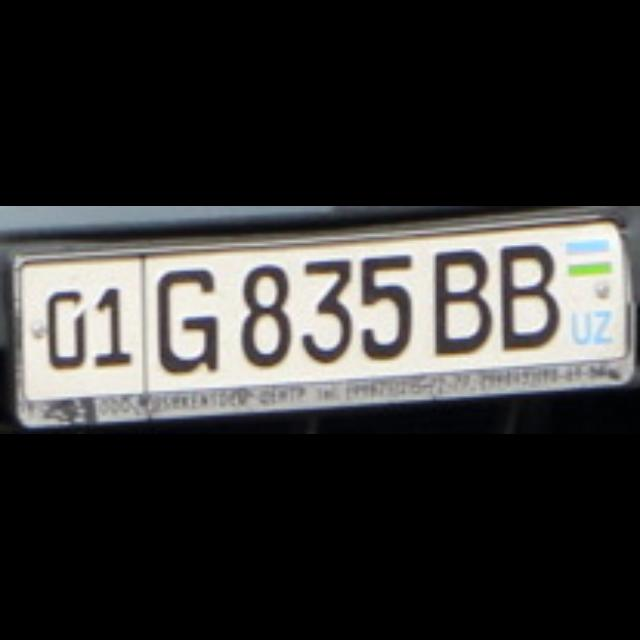0: (43, 289, 83, 366)
1: (92, 284, 130, 361)
3: (300, 256, 350, 360)
5: (358, 252, 412, 358)
8: (238, 262, 288, 364)
B: (498, 240, 556, 348), (432, 246, 486, 348)
G: (154, 264, 213, 370)
